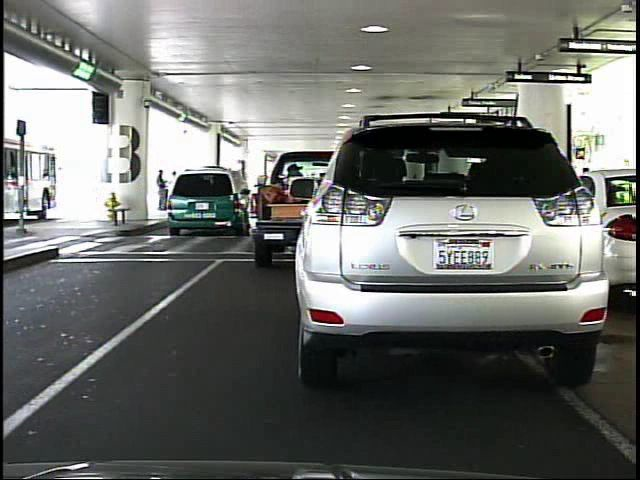person: (152, 162, 172, 215)
